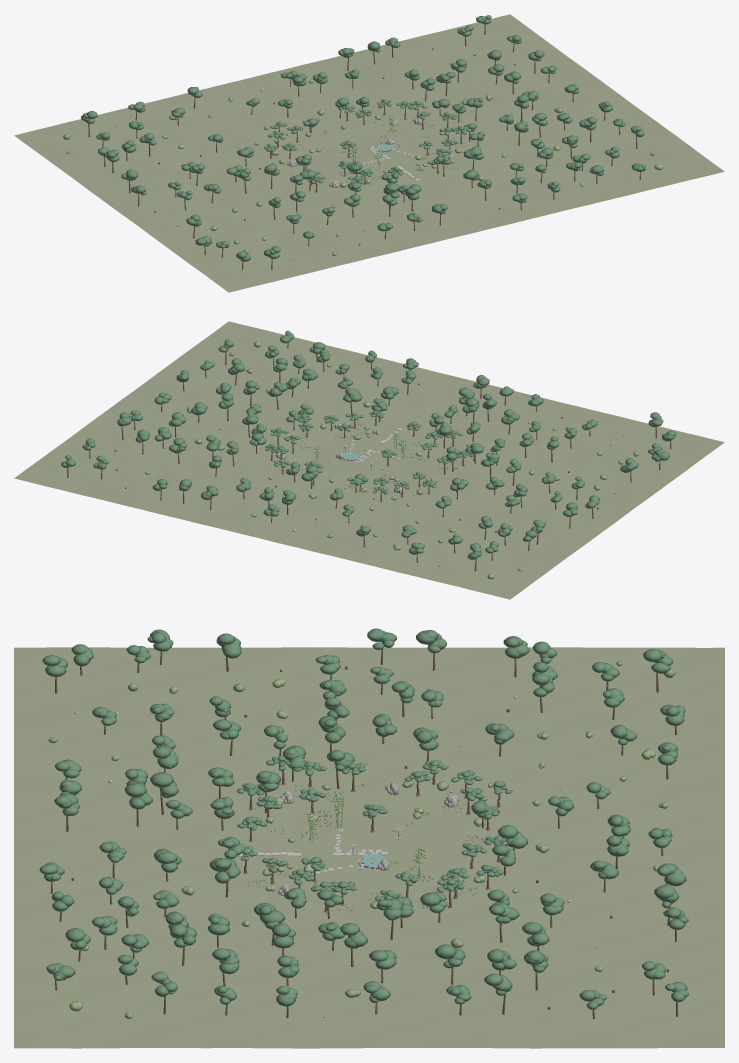
The model's file is garden.glb.
The picture shows the model from 3 angles, top to bottom: view 1: azimuth 30°, elevation 25°; view 2: azimuth 150°, elevation 25°; view 3: azimuth 270°, elevation 25°; orthographic projection. The views are drawn at different scales.
Visible parts, largest first — view 1: Terrain1; view 2: Terrain1; view 3: Terrain1.
Part boxes in pixels (box(x1,y1,x2,y2)): Terrain1: box(14, 14, 724, 292); Terrain1: box(14, 321, 724, 599); Terrain1: box(14, 647, 724, 1048).
Size of the model in its own units: 88 by 4.93 by 66.
